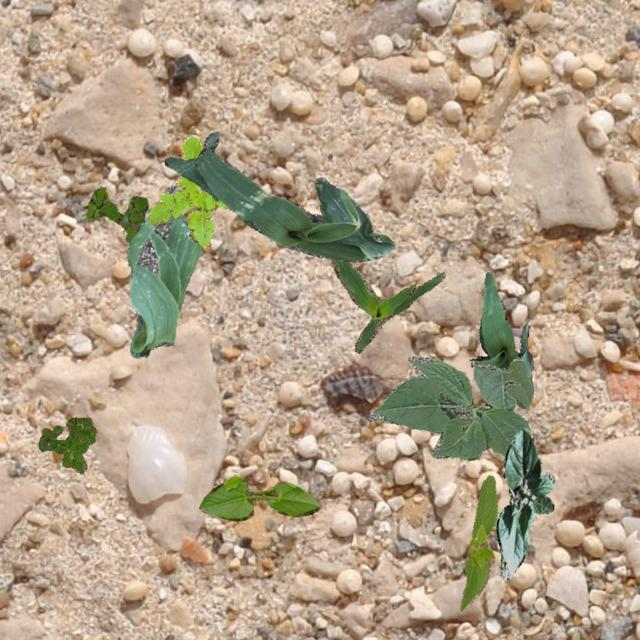crop: (164, 130, 394, 260), (368, 354, 532, 458), (126, 185, 202, 356), (331, 258, 444, 352), (496, 426, 556, 578), (468, 272, 532, 378), (198, 476, 318, 520), (458, 474, 496, 610)
weed: (148, 134, 228, 246), (86, 186, 148, 242), (38, 416, 96, 474)
